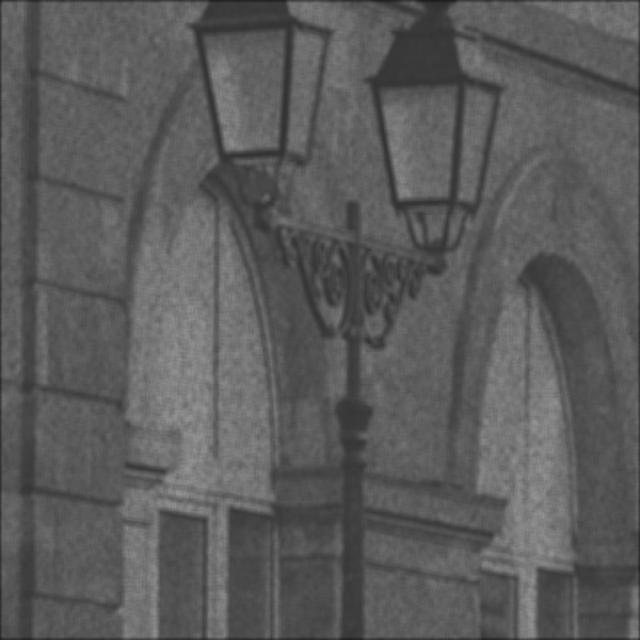lamp_bulb: (359, 59, 513, 221), (188, 14, 332, 176)
